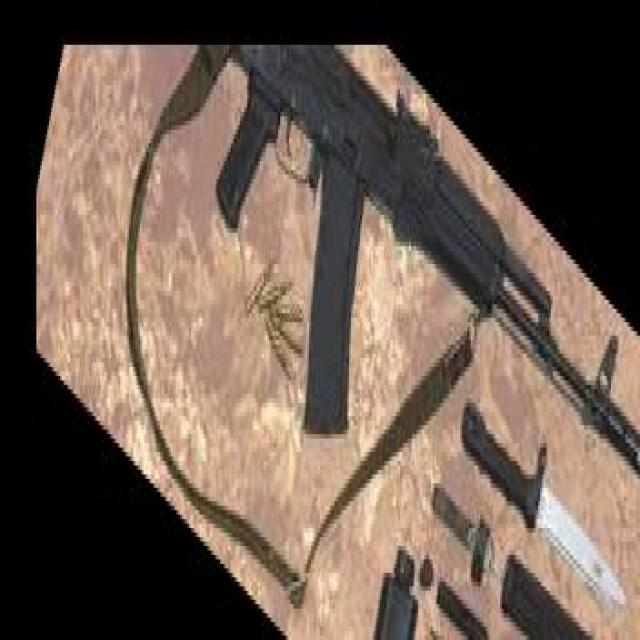weapon: (214, 42, 640, 480)
